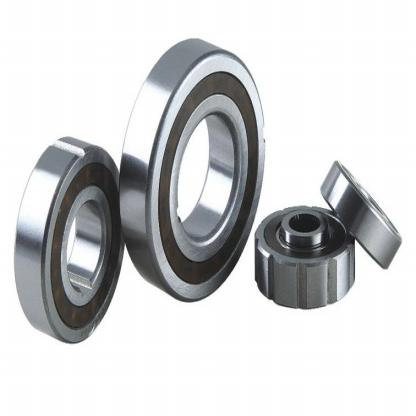FOD: (117, 33, 267, 307), (12, 131, 126, 345), (252, 200, 358, 313), (318, 156, 403, 272)
